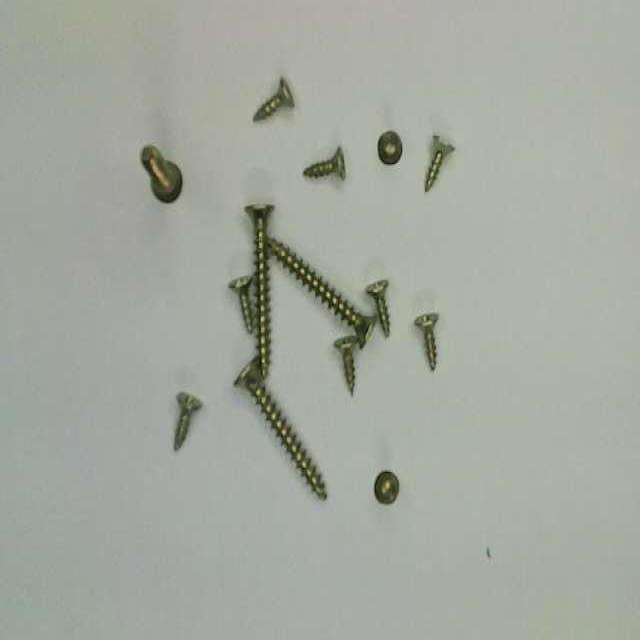Parafuso: (234, 357, 326, 499), (269, 237, 374, 347), (245, 205, 273, 375), (141, 147, 181, 201), (253, 79, 294, 120), (425, 135, 454, 191), (174, 392, 201, 449), (414, 313, 438, 369), (366, 280, 389, 336), (229, 276, 252, 332), (303, 147, 345, 177), (335, 336, 355, 395), (374, 471, 399, 504), (378, 131, 401, 163)
